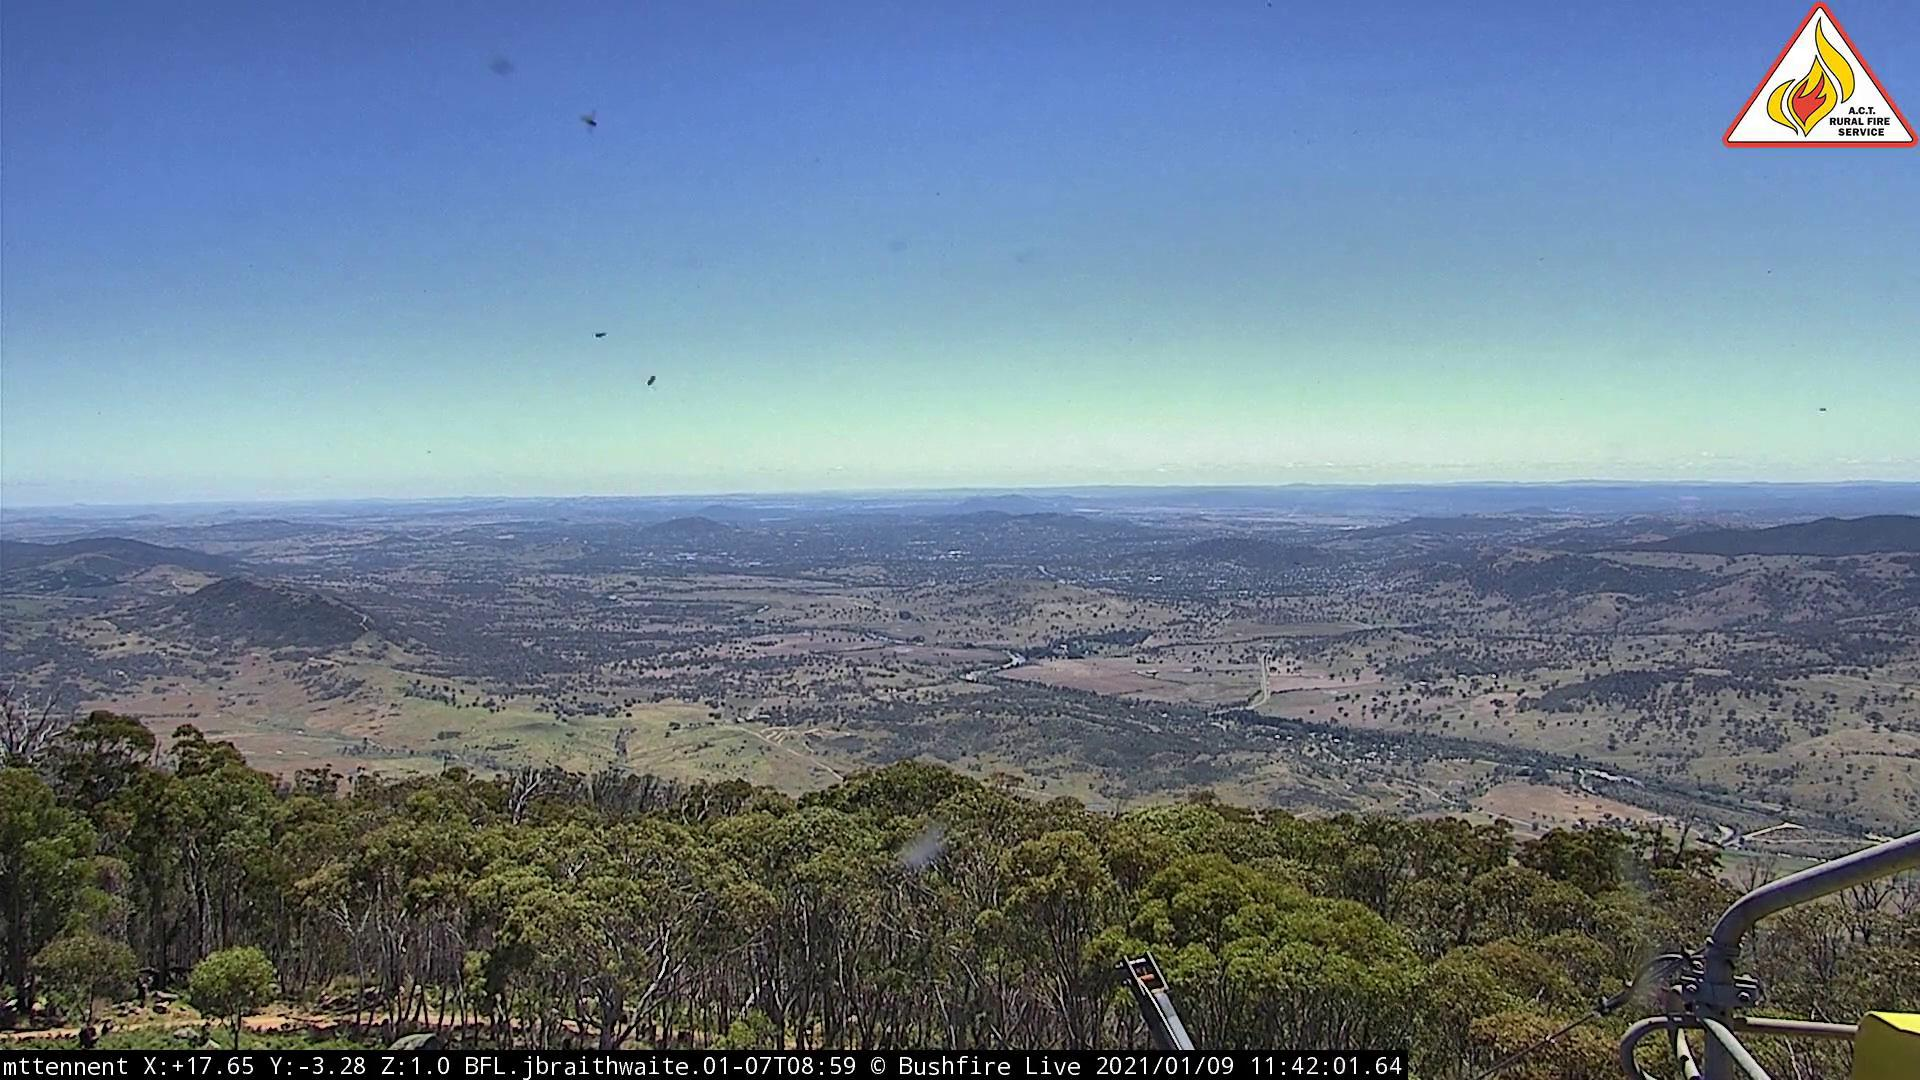Smoke: (1284, 498, 1309, 520)
